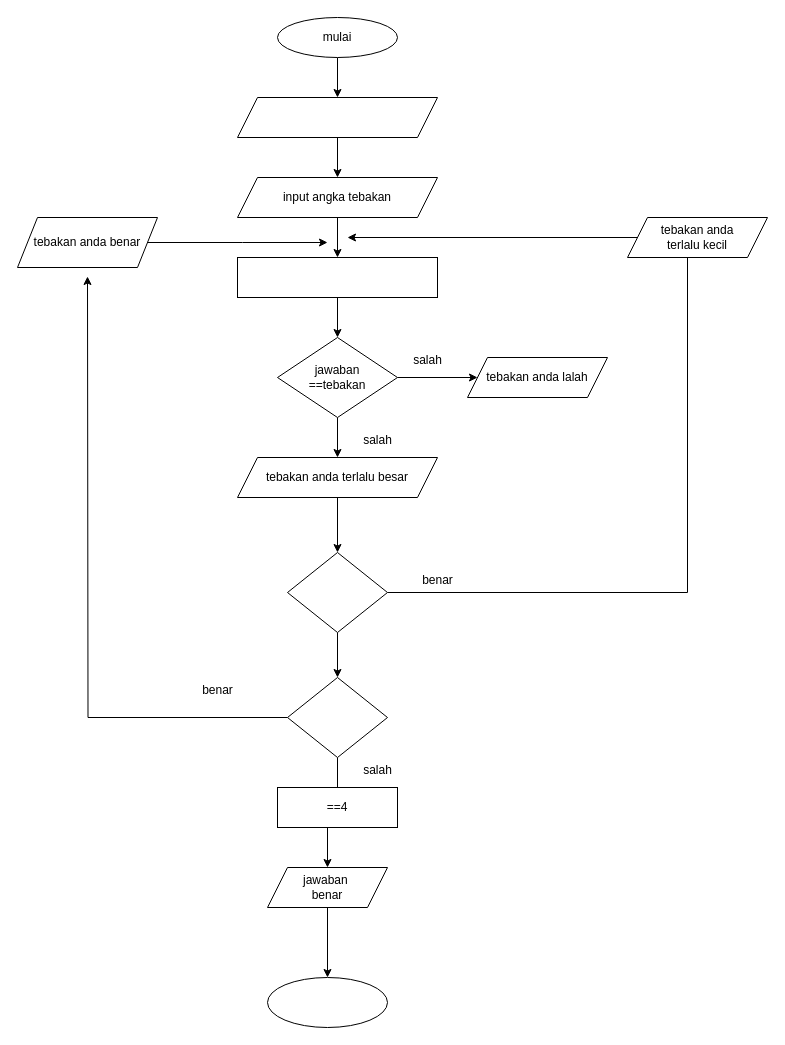
Image size: 785x1045. Some labels were removed from this diagram. Here are the shapes that lost their labels. From the top down, the centre of each, then its label:
At (x=337, y=117): "program tebak angka".
At (x=337, y=277): "jawaban==rani()% BATAS_ATAS_BATAS_BAWAH".
At (x=337, y=592): "jawaban >tebakan".
At (x=337, y=717): "jawaban <tebakan".
At (x=327, y=1002): "selesai".
